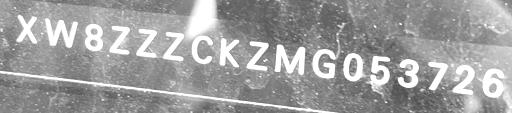letter: (44, 15, 80, 50), (273, 42, 307, 77), (422, 57, 450, 93), (310, 45, 338, 80), (188, 32, 216, 65), (12, 12, 38, 45), (161, 29, 187, 62), (135, 26, 159, 61), (216, 34, 240, 69), (450, 63, 476, 95), (480, 64, 504, 98), (368, 52, 392, 85), (108, 24, 132, 57), (245, 38, 269, 71), (340, 50, 364, 83), (396, 56, 420, 88), (82, 21, 104, 52)
